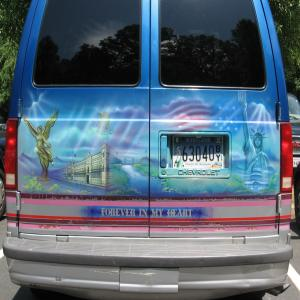Vehicle-registration-plate: (173, 137, 224, 168)
